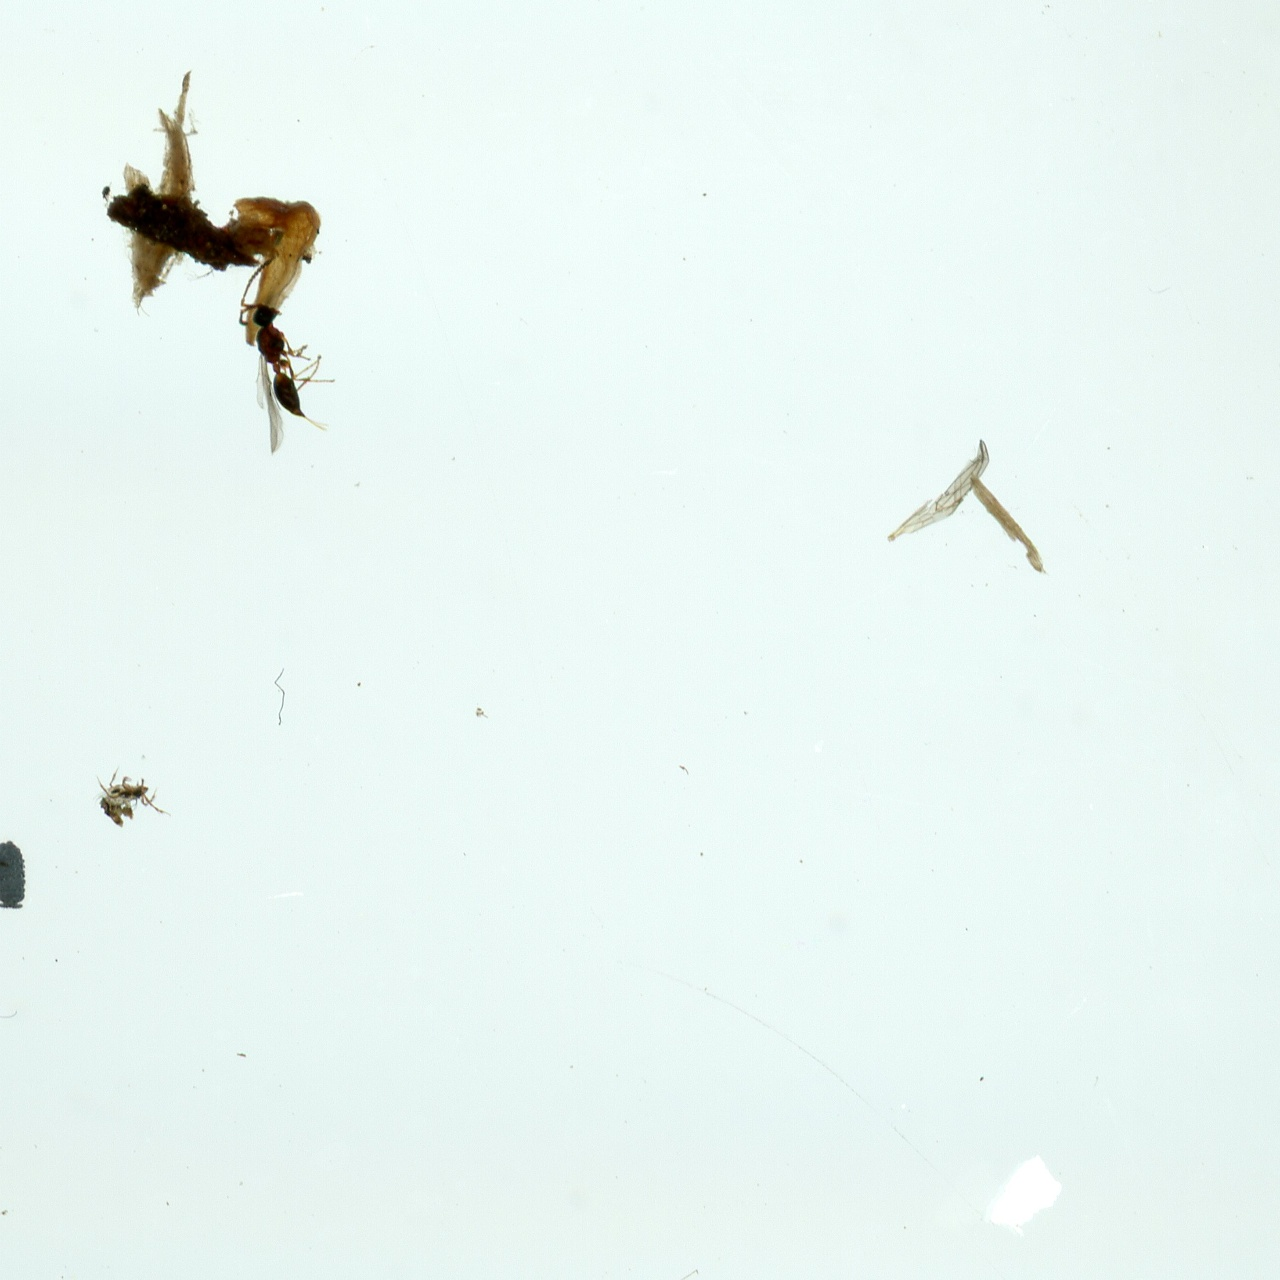arthropod: (202, 234, 359, 469), (93, 763, 173, 828), (0, 839, 26, 909)
